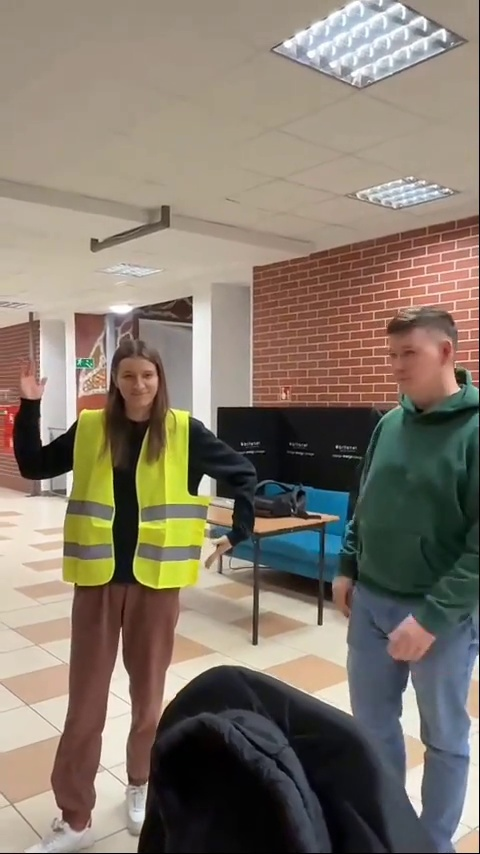no vest: (331, 304, 477, 844)
vest: (14, 333, 257, 854)
